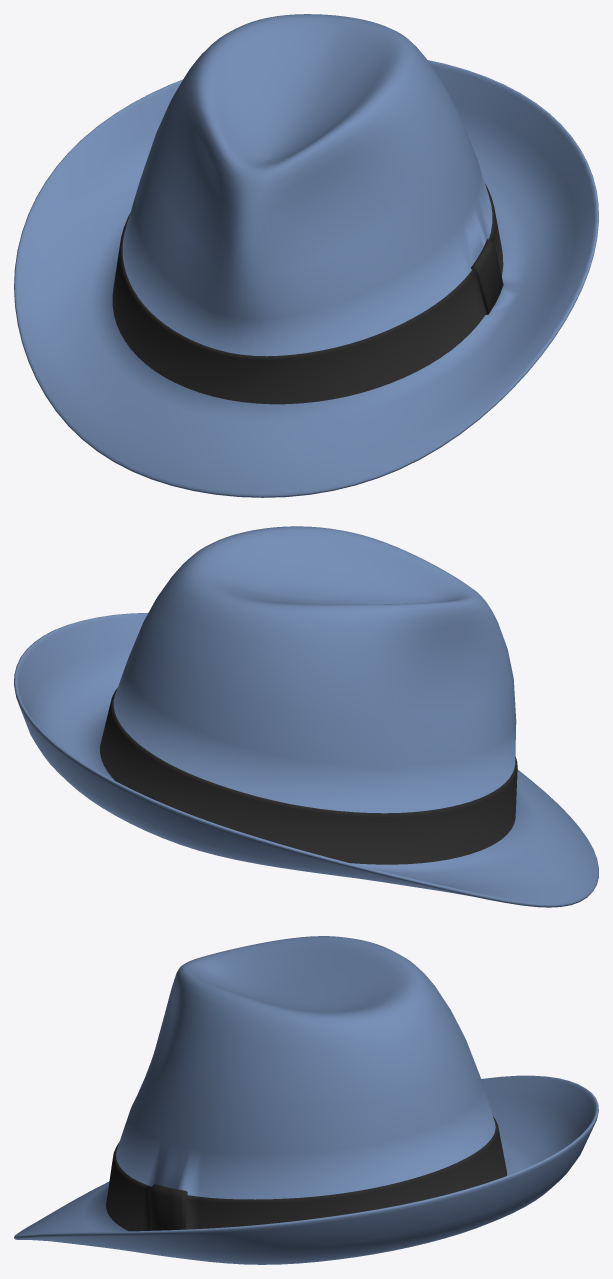
Rendered from fedora.dae.
The picture shows the model from 3 angles, top to bottom: view 1: azimuth 30°, elevation 25°; view 2: azimuth 150°, elevation 25°; view 3: azimuth 270°, elevation 25°; orthographic projection.
Parts seen in each view (by area): view 1: Hat_bitmap; view 2: Hat_bitmap; view 3: Hat_bitmap.
Part boxes in pixels (bbox=[...]): Hat_bitmap: bbox=[14, 14, 598, 497]; Hat_bitmap: bbox=[14, 526, 598, 907]; Hat_bitmap: bbox=[14, 936, 598, 1264].
Bounding box in the file's own units: 8.56 × 8.58 × 5.08.
